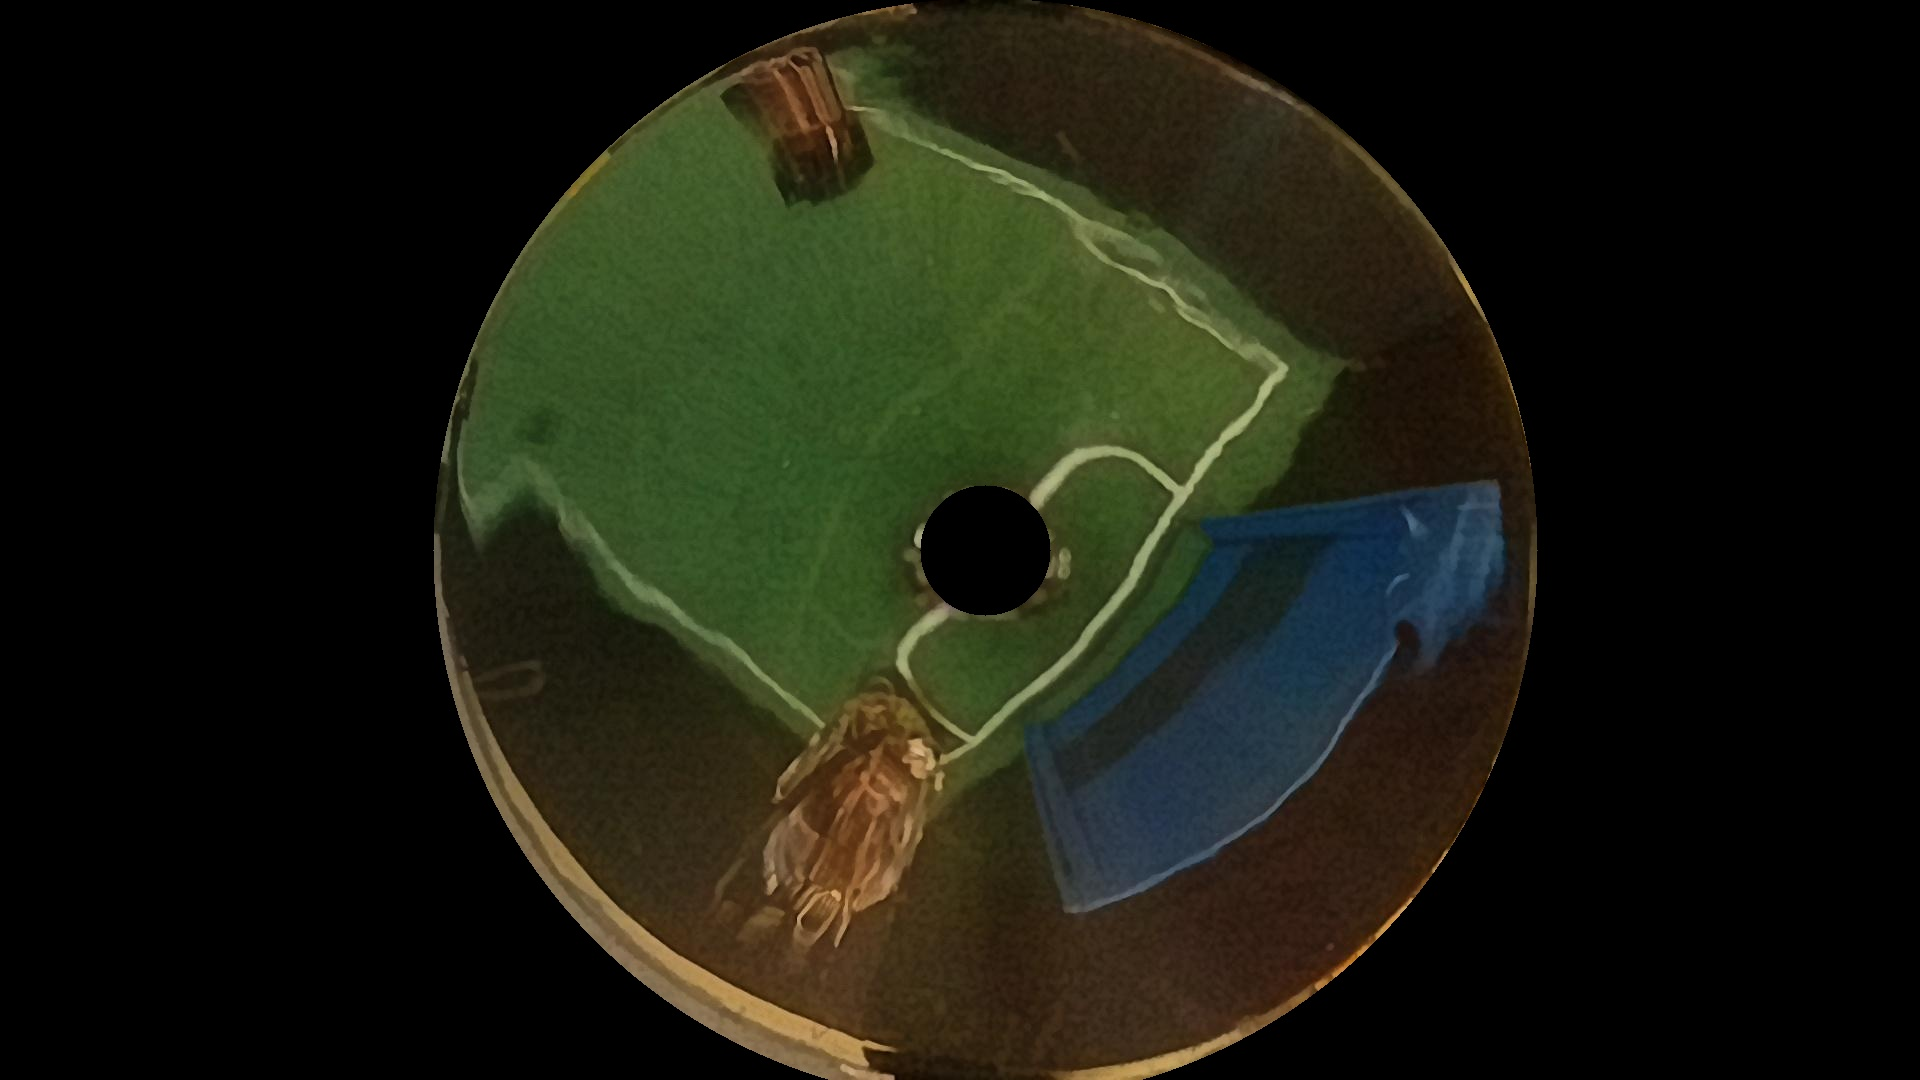blue-goal: (1044, 501, 1444, 884)
robots: (753, 675, 935, 899), (744, 49, 865, 214)
